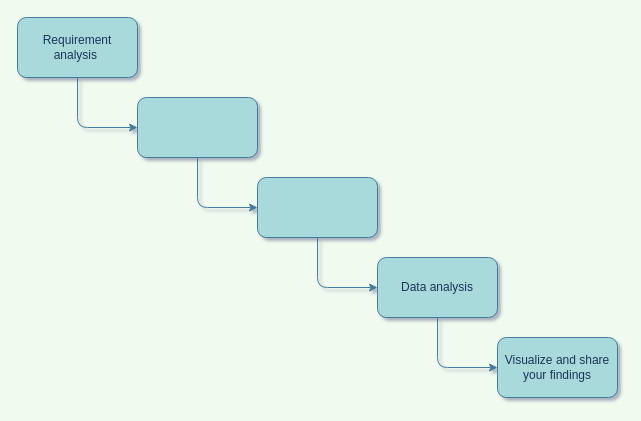
Some shapes in this 641 by 421 pixel diagram are drawn without their labels. The shapes that lost their labels are listed below. From the top down, each one's centre as x and y in pixels, then its label:
At [197,127]: "Data gathering".
At [317,207]: "Data preprocessing and formatting".
